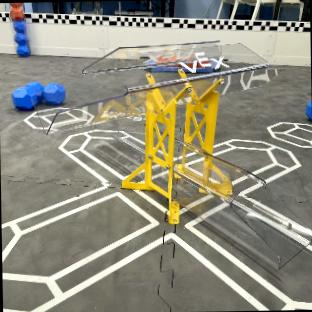V5_BLUE: (12, 82, 65, 109), (305, 101, 311, 118)
